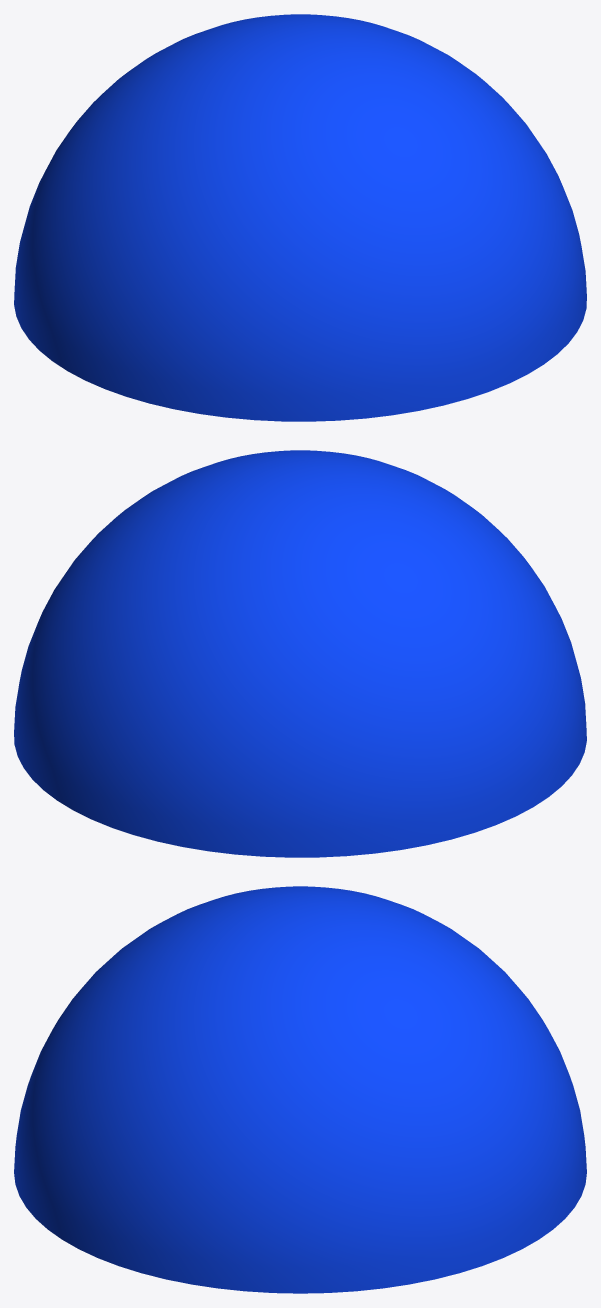
Rendered from Force_field_3.FBX.
3 renders of one model, top to bottom at view 1: azimuth 30°, elevation 25°; view 2: azimuth 150°, elevation 25°; view 3: azimuth 270°, elevation 25°, orthographic.
Parts seen in each view (by area): view 1: Sphere001; view 2: Sphere001; view 3: Sphere001.
Boxes of the visible parts, x1,y1,x2,y2 form: Sphere001: [14, 14, 586, 421]; Sphere001: [14, 450, 586, 857]; Sphere001: [14, 886, 586, 1293].
Size of the model in its own units: 197 by 98.43 by 197.
